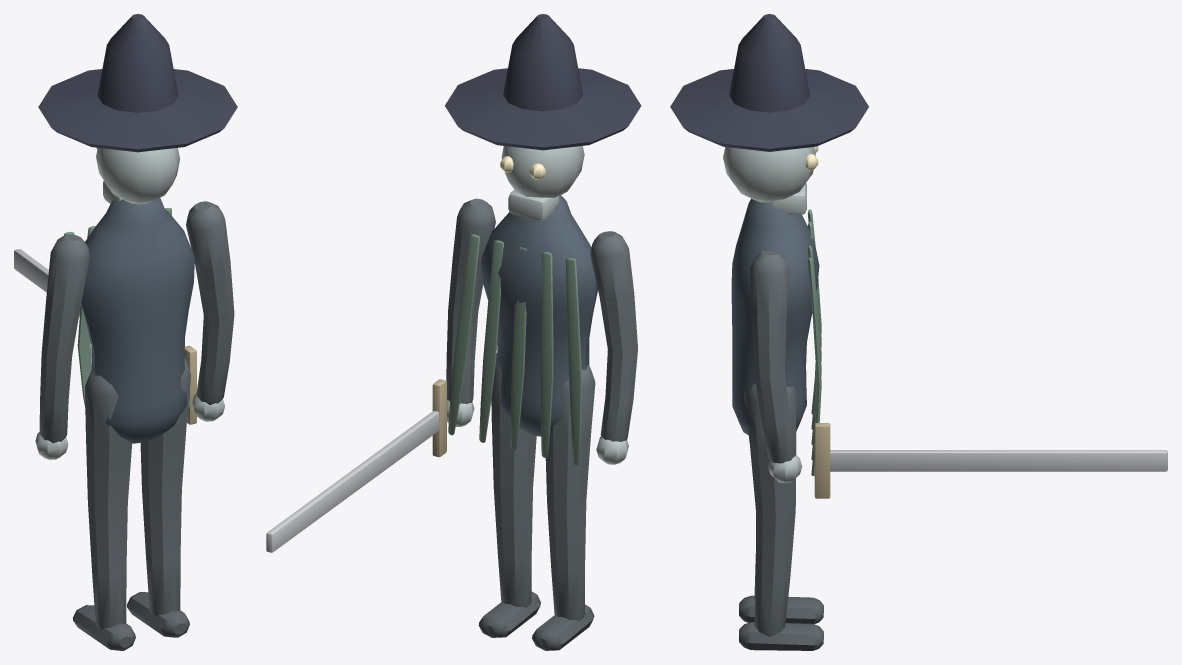
Rendered from drowned_sailor.gltf.
3 renders of one model, left to right at view 1: azimuth 30°, elevation 25°; view 2: azimuth 150°, elevation 25°; view 3: azimuth 270°, elevation 25°, orthographic.
Parts seen in each view (by area): view 1: Body, SwingA, SwingB, ArmR, ArmL; view 2: Body, ArmR, SwingA, SwingB, ArmL; view 3: Body, ArmR, SwingB, SwingA.
Boxes of the visible parts, x1,y1,x2,y2 form: Body: [38, 14, 237, 443]; SwingA: [73, 369, 135, 650]; SwingB: [127, 357, 190, 637]; ArmR: [14, 201, 234, 424]; ArmL: [35, 234, 90, 459]; Body: [445, 14, 641, 465]; ArmR: [266, 198, 495, 552]; SwingA: [532, 365, 595, 650]; SwingB: [478, 353, 540, 637]; ArmL: [590, 231, 637, 464]; Body: [670, 14, 868, 475]; ArmR: [749, 250, 1167, 498]; SwingB: [739, 383, 823, 650]; SwingA: [739, 554, 823, 623].
Size of the model in its own units: 0.697 by 2.19 by 1.6.
